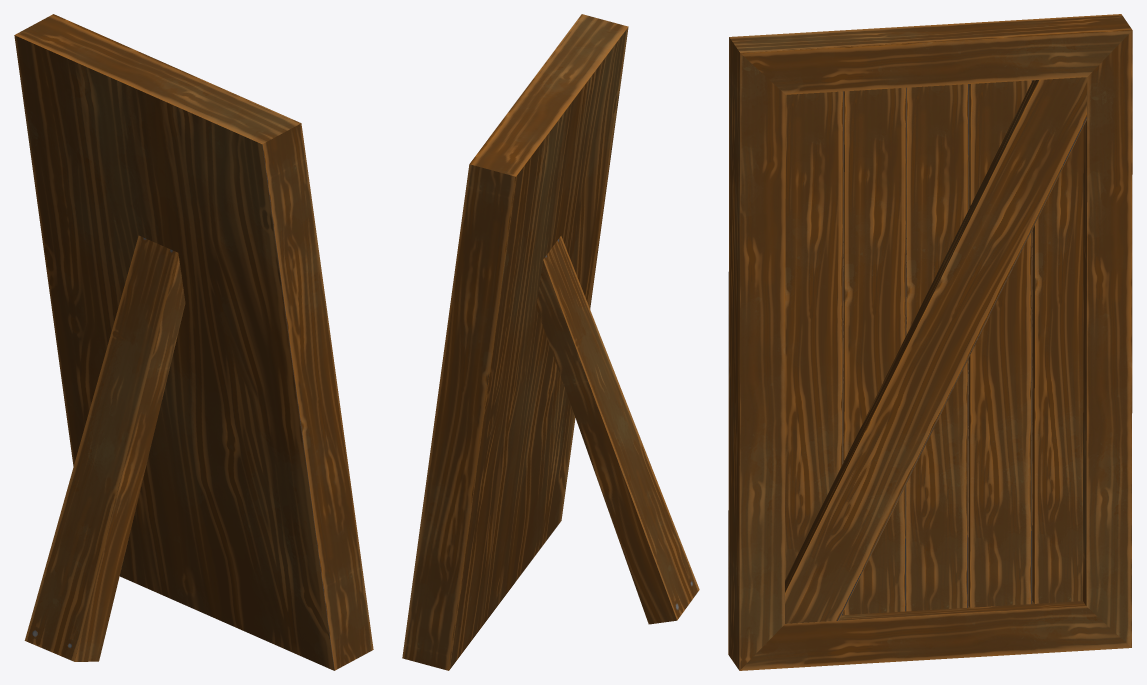
3 views of the same model, side by side, from view 1: azimuth 30°, elevation 25°; view 2: azimuth 150°, elevation 25°; view 3: azimuth 270°, elevation 25° (orthographic). The views are drawn at different scales.
Visible parts, largest first — view 1: Cube.1846; view 2: Cube.1846; view 3: Cube.1846.
Part boxes in pixels (box(x1,y1,x2,y2)): Cube.1846: box(14, 14, 373, 670); Cube.1846: box(402, 14, 699, 670); Cube.1846: box(728, 14, 1132, 670).
Size of the model in its own units: 168 by 345 by 212.
1 material, 1 textured.
